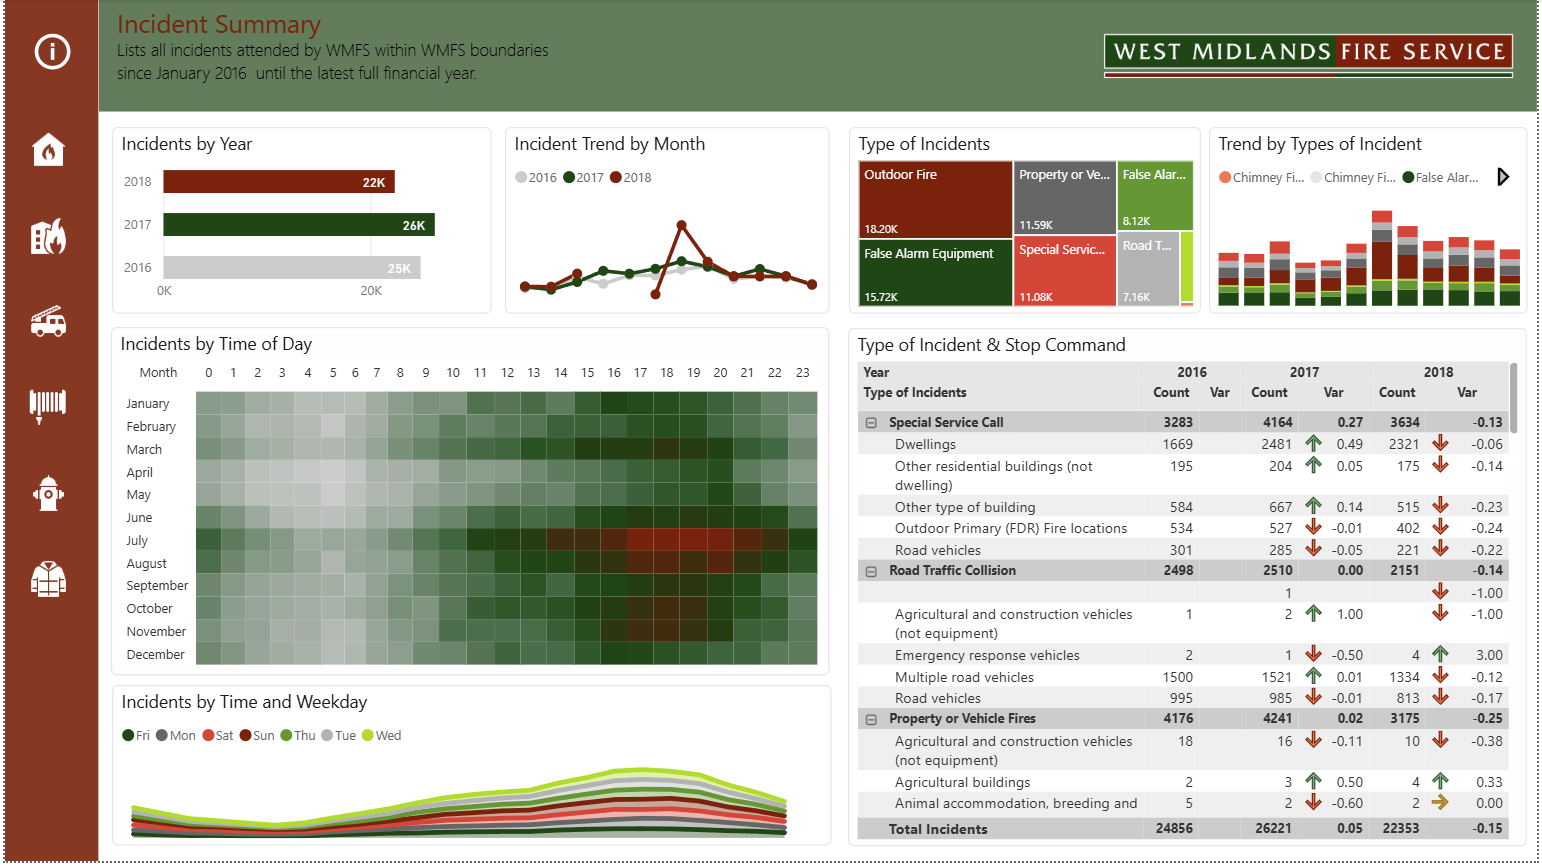

Layout of this report page (visuals, bound fields, positions):
{"tool":"powerbi","page":{"name":"Summary of Incident","canvas":[1280,720],"ordinal":0},"visuals":[{"type":"barChart","title":"Incidents by Year","fields":{"Category":["WMF.Year"],"Series":["WMF.Year"],"Y":["CountNonNull(WMF.Incident num)"]},"box":[89.5,107.1,317.3,155.9],"z":0},{"type":"basicShape","box":[0,0,78.5,720],"z":1000},{"type":"textbox","box":[704.9,274,285,53.7],"z":2000},{"type":"basicShape","box":[490.1,0,374.5,85.4],"z":3000},{"type":"pivotTable","title":"Type of Incident & Stop Command","fields":{"Columns":["WMF.Inc date/time.Variation.Date Hierarchy.Year"],"Rows":["WMF.Revised inc type","WMF.Property type group"],"Values":["CountNonNull(WMF.Incident num)","WMF.YOY"]},"box":[704.4,274.4,567.2,433.4],"z":4000},{"type":"lineChart","title":"Incident Trend by Month","fields":{"Category":["WMF.Inc date/time.Variation.Date Hierarchy.Month"],"Series":["WMF.Inc date/time.Variation.Date Hierarchy.Year"],"Y":["CountNonNull(WMF.Incident num)"]},"box":[417.6,107.1,271.2,155.9],"z":5000},{"type":"columnChart","title":"Trend by Types of Incident","fields":{"Category":["WMF.Inc date/time.Variation.Date Hierarchy.Month"],"Series":["WMF.Type of Incidents"],"Y":["CountNonNull(WMF.Incident num)"]},"box":[1006,107,266,156],"z":6000},{"type":"basicShape","title":"WMFS Reports  Incident Records Overview","box":[78.5,0,1201.5,94.2],"z":7000},{"type":"image","box":[912.7,9.6,352.4,75.7],"z":8000},{"type":"stackedAreaChart","title":"Incidents by Time and Weekday","fields":{"Category":["WMF.Hour"],"Series":["WMF.Day"],"Y":["CountNonNull(WMF.Incident num)"]},"box":[89,572.8,601.4,134.4],"z":9000},{"type":"treemap","title":"Type of Incidents","fields":{"Group":["WMF.Revised inc type"],"Values":["CountNonNull(WMF.Incident num)"]},"box":[705,107,294,156],"z":10000},{"type":"pivotTable","title":"Incidents by Time of Day","fields":{"Columns":["WMF.Hour"],"Rows":["WMF.Inc date/time.Variation.Date Hierarchy.Month"],"Values":["CountNonNull(WMF.Incident num)"]},"box":[88.8,274.3,600.3,290.7],"z":11000},{"type":"actionButton","box":[5.5,15.1,67.5,57.8],"z":12000},{"type":"image","box":[15.7,106.1,41,39.8],"z":13000},{"type":"image","box":[15.7,177.7,41,39.8],"z":14000},{"type":"image","box":[15.7,249.3,41,39.8],"z":15000},{"type":"image","box":[12.1,320.8,48.2,39.8],"z":16000},{"type":"image","box":[15.7,392.4,41,39.8],"z":17000},{"type":"image","box":[15.7,464,41,39.8],"z":18000},{"type":"actionButton","box":[0,96.3,74.1,59.3],"z":19000},{"type":"actionButton","box":[0,167.4,74.1,59.3],"z":20000},{"type":"actionButton","box":[0,240,74.1,59.3],"z":21000},{"type":"actionButton","box":[0,311.1,74.1,59.3],"z":22000},{"type":"actionButton","box":[0,386.7,74.1,59.3],"z":23000},{"type":"actionButton","box":[0,454.8,74.1,59.3],"z":24000},{"type":"textbox","box":[88.8,0,377.8,88],"z":24001}]}

Visuals, with their boxes on the page's 1280x720 design canvas (x1, y1, x2, y2). These are canvas units, not pixel positions in the 1542x867 screenshot, which may show the page scaled, cropped or inside an application window:
"Incidents by Year" barChart: Rect(90, 107, 407, 263)
basicShape: Rect(0, 0, 78, 720)
textbox: Rect(705, 274, 990, 328)
basicShape: Rect(490, 0, 865, 85)
"Type of Incident & Stop Command" pivotTable: Rect(704, 274, 1272, 708)
"Incident Trend by Month" lineChart: Rect(418, 107, 689, 263)
"Trend by Types of Incident" columnChart: Rect(1006, 107, 1272, 263)
"WMFS Reports  Incident Records Overview" basicShape: Rect(78, 0, 1280, 94)
image: Rect(913, 10, 1265, 85)
"Incidents by Time and Weekday" stackedAreaChart: Rect(89, 573, 690, 707)
"Type of Incidents" treemap: Rect(705, 107, 999, 263)
"Incidents by Time of Day" pivotTable: Rect(89, 274, 689, 565)
actionButton: Rect(6, 15, 73, 73)
image: Rect(16, 106, 57, 146)
image: Rect(16, 178, 57, 218)
image: Rect(16, 249, 57, 289)
image: Rect(12, 321, 60, 361)
image: Rect(16, 392, 57, 432)
image: Rect(16, 464, 57, 504)
actionButton: Rect(0, 96, 74, 156)
actionButton: Rect(0, 167, 74, 227)
actionButton: Rect(0, 240, 74, 299)
actionButton: Rect(0, 311, 74, 370)
actionButton: Rect(0, 387, 74, 446)
actionButton: Rect(0, 455, 74, 514)
textbox: Rect(89, 0, 467, 88)
